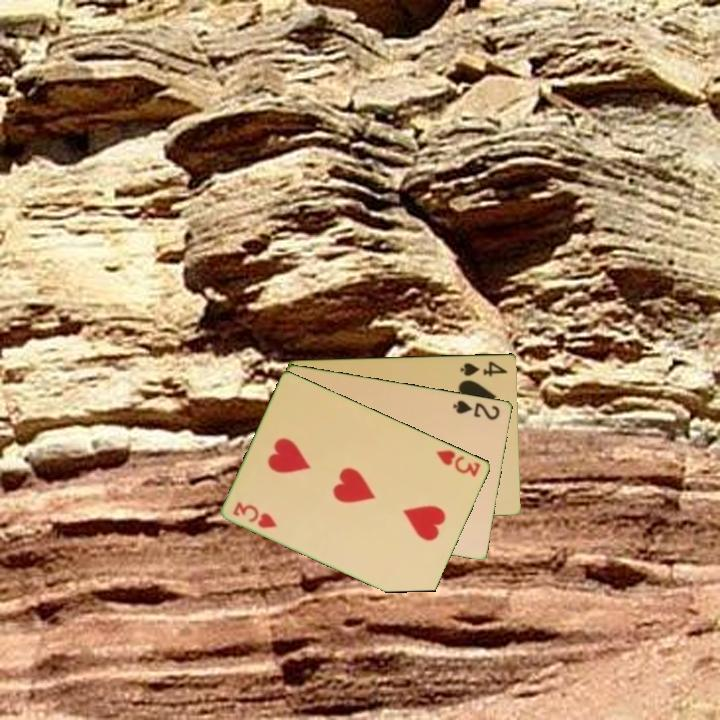2s: (450, 396, 503, 423)
3h: (433, 446, 484, 480), (230, 498, 281, 531)
4s: (457, 358, 511, 379)
